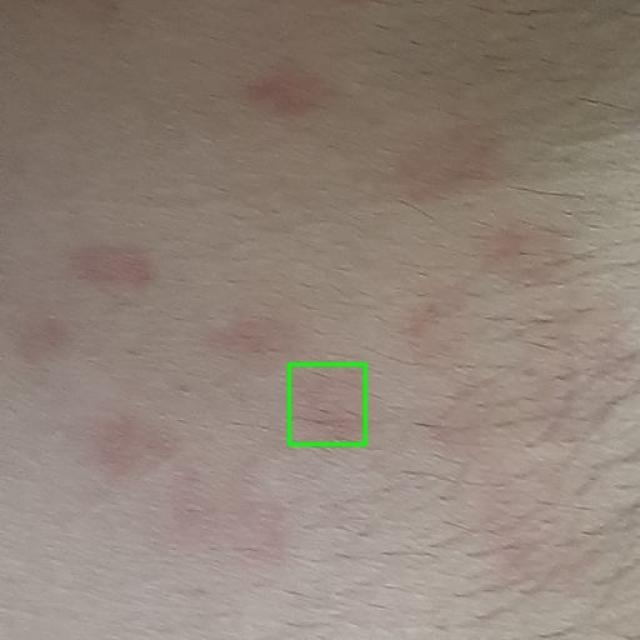Tinea Corporis: (289, 364, 365, 444)
